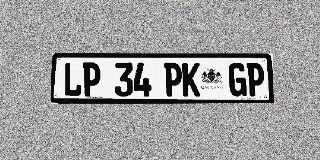3: (115, 63, 133, 96)
4: (133, 63, 151, 96)
G: (229, 63, 247, 96)
K: (182, 63, 200, 96)
L: (63, 62, 82, 97)
P: (82, 62, 101, 97), (246, 63, 265, 96), (164, 63, 182, 96)
